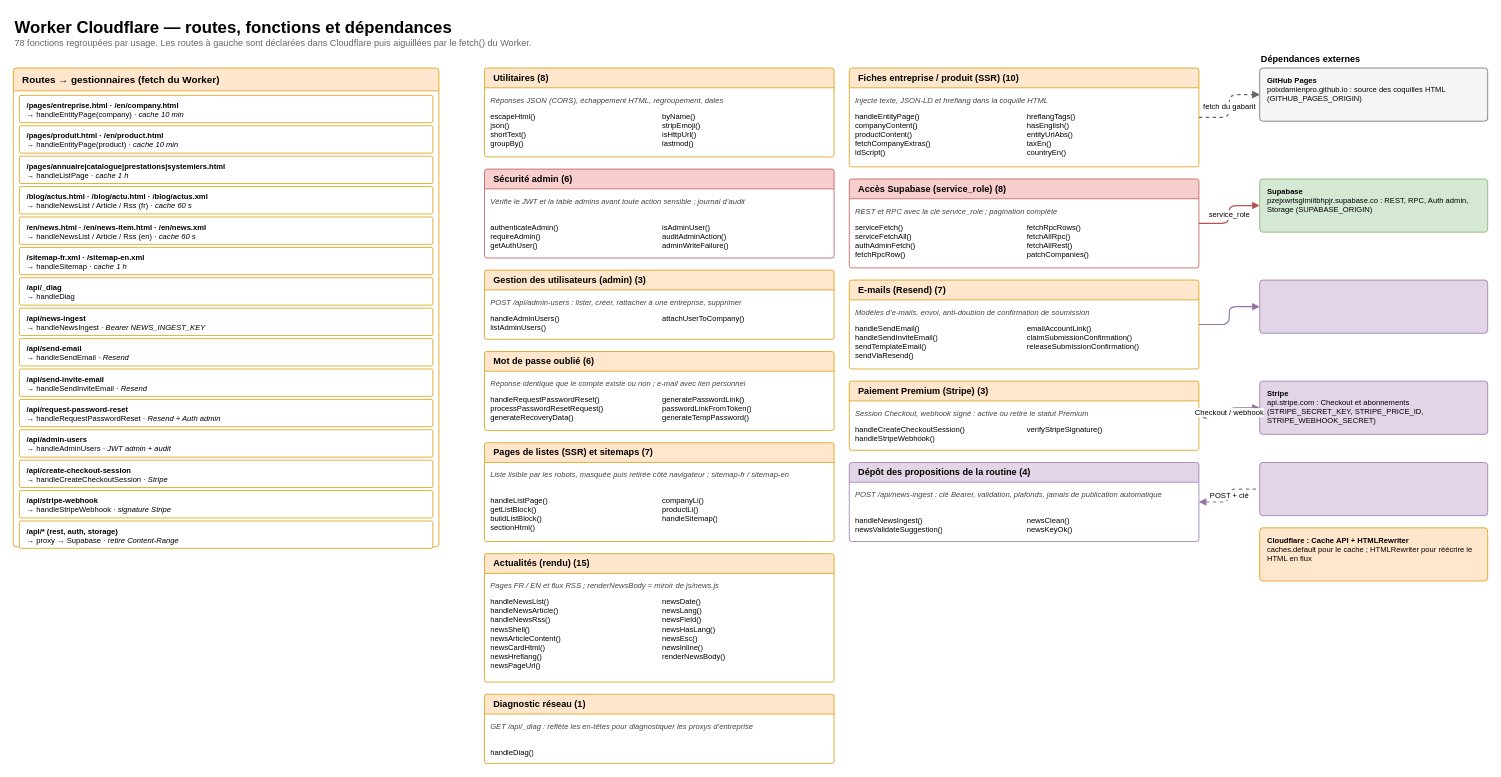
This 1501x777 diagram has some shape labels left out. Each missing label, with the centre of its shape:
"Resend api.resend.com : e-mails transactionnels (RESEND_API_KEY)" belongs at point 1373,306.
"Routine Claude appelle /api/news-ingest depuis son environnement cloud" belongs at point 1373,489.
